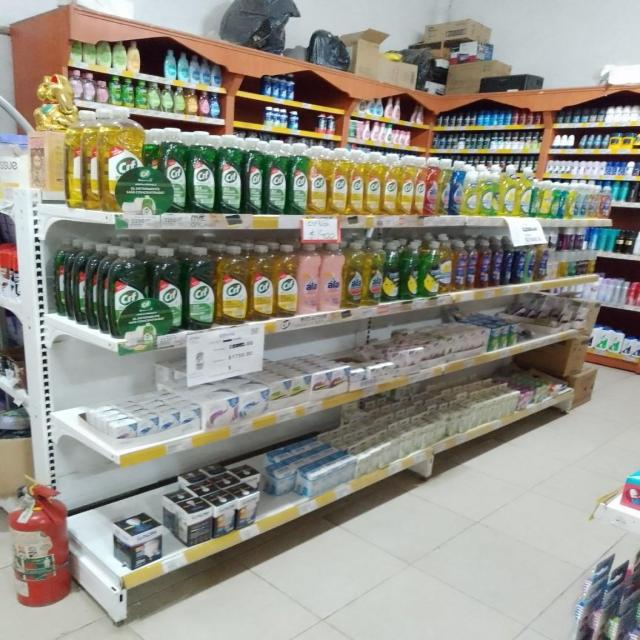ala_conc_amarillo: (344, 240, 364, 308), (364, 240, 383, 306)
ala_conc_rojo: (438, 158, 451, 216), (426, 157, 438, 216)
ala_ultra_rosa: (320, 241, 342, 312), (298, 242, 319, 315)
cif_conc_bot_amarilla: (100, 110, 143, 212), (216, 244, 248, 324), (249, 244, 273, 321), (274, 243, 297, 318), (82, 110, 99, 211), (67, 113, 82, 210), (308, 146, 328, 215), (329, 148, 348, 215), (365, 151, 382, 215), (349, 149, 364, 215), (383, 153, 398, 215), (399, 155, 414, 215), (414, 156, 426, 216)
cif_conc_botella_verde: (106, 246, 147, 337), (149, 246, 182, 334), (184, 246, 215, 330), (157, 128, 187, 214), (189, 131, 215, 214), (217, 134, 242, 214), (264, 140, 288, 214), (243, 136, 263, 214), (288, 143, 308, 215)
magistral_con_amarillo: (498, 164, 516, 217), (479, 164, 496, 217), (463, 163, 478, 216), (517, 165, 532, 218), (491, 164, 503, 217)
magistral_con_azul: (450, 160, 462, 216)
